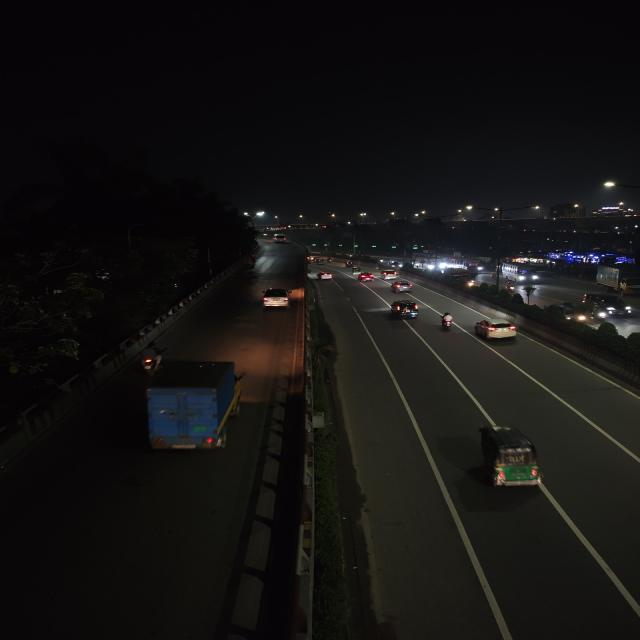bus: (503, 264, 540, 285), (466, 260, 486, 274)
car: (581, 291, 633, 318), (474, 316, 519, 344), (261, 286, 292, 310), (389, 299, 422, 319), (390, 280, 414, 294), (380, 269, 399, 281), (317, 269, 334, 281), (358, 272, 376, 282), (272, 234, 288, 244)
cng: (469, 422, 552, 494)
motorcycle: (137, 341, 166, 375), (438, 311, 458, 333)
truck: (139, 357, 249, 458), (595, 264, 640, 296)
